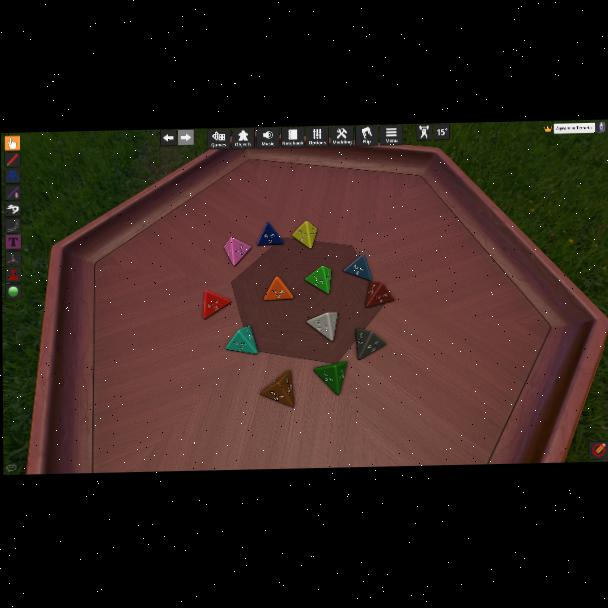d4: (260, 370, 296, 408), (313, 361, 347, 396), (356, 327, 387, 360), (306, 312, 339, 342), (225, 326, 256, 355), (202, 290, 229, 320), (224, 236, 250, 267), (343, 254, 371, 282), (264, 276, 295, 301), (366, 281, 393, 308), (305, 266, 331, 294), (292, 221, 317, 250), (257, 222, 284, 246)
